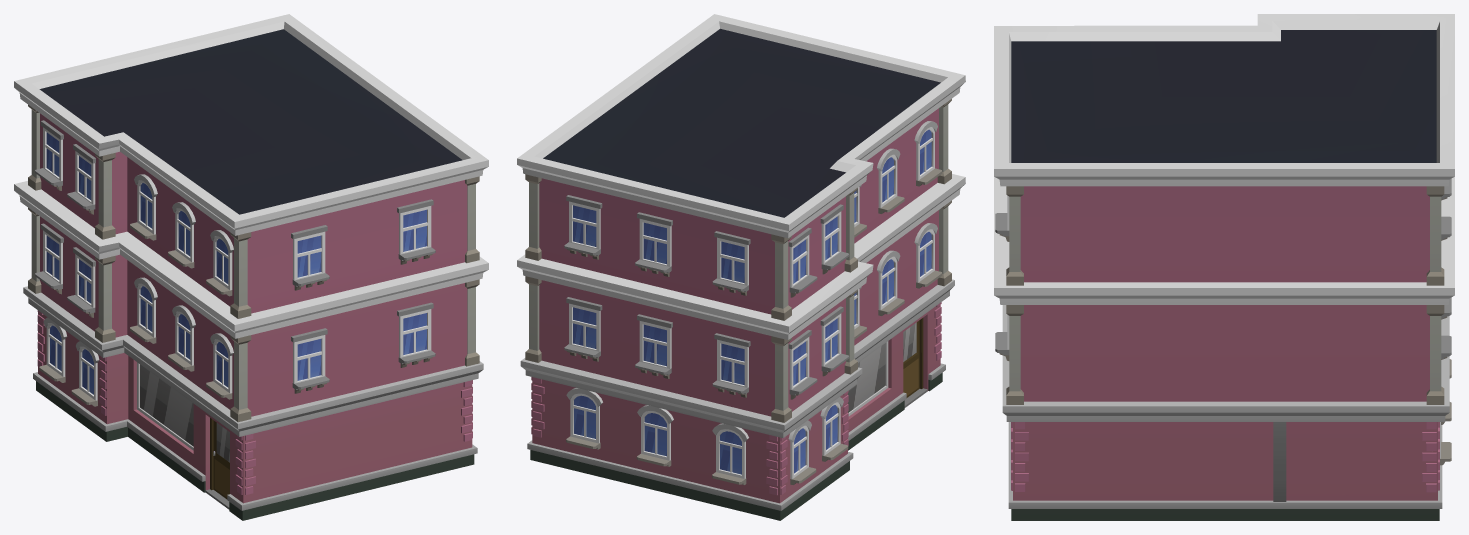
Rendered from Building_1_3_N.fbx.
3 views of the same model, side by side, from view 1: azimuth 30°, elevation 25°; view 2: azimuth 150°, elevation 25°; view 3: azimuth 270°, elevation 25° (orthographic). The views are drawn at different scales.
Parts seen in each view (by area): view 1: Building_1_3_N; view 2: Building_1_3_N; view 3: Building_1_3_N.
Boxes of the visible parts, x1,y1,x2,y2 form: Building_1_3_N: [14, 14, 488, 520]; Building_1_3_N: [517, 14, 965, 520]; Building_1_3_N: [994, 14, 1454, 520].
Size of the model in its own units: 841 by 900 by 1057.
